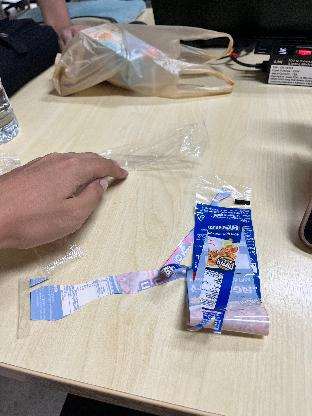Others: (156, 171, 276, 374), (73, 116, 227, 182)
